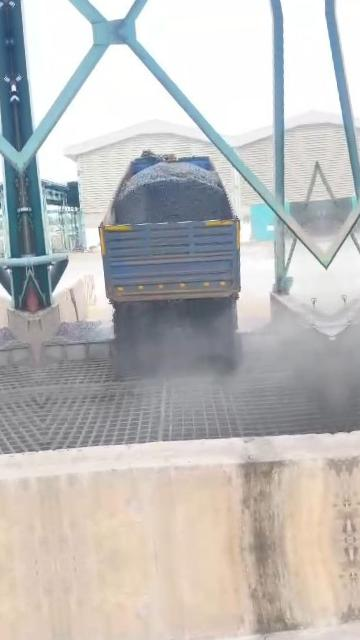gravel: (112, 298, 240, 376), (113, 162, 233, 223), (50, 321, 112, 343)
